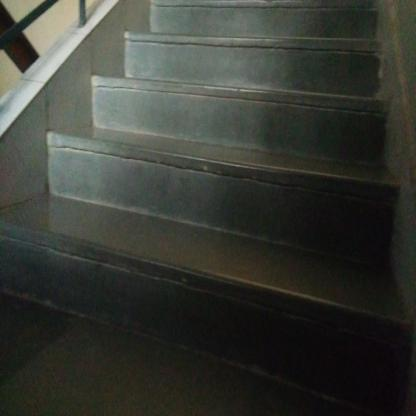stairs: (143, 10, 378, 416)
